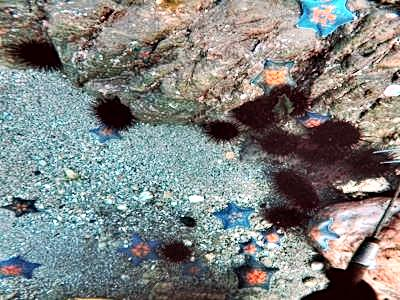urchin: (3, 34, 65, 74), (274, 166, 321, 212), (87, 94, 136, 130), (233, 96, 275, 132), (310, 120, 363, 146), (343, 148, 379, 182), (272, 83, 307, 116), (258, 126, 295, 157), (265, 204, 303, 231), (301, 137, 339, 164), (202, 118, 235, 141), (160, 237, 188, 262)
